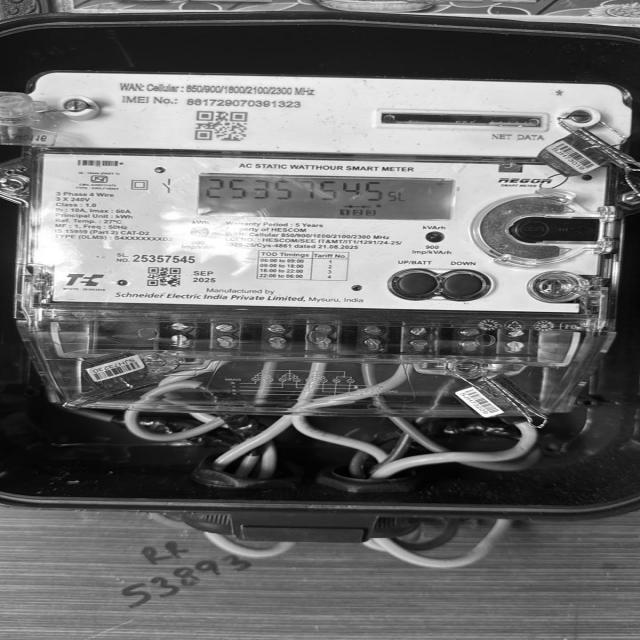meter: (30, 70, 632, 315)
